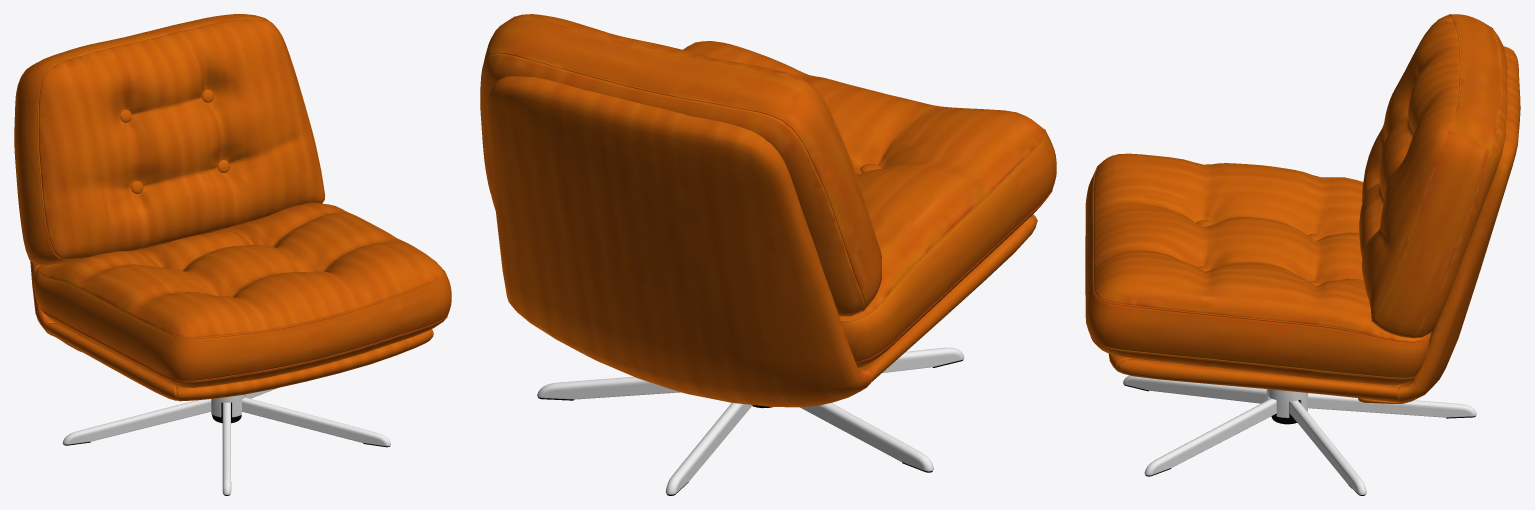
The model's file is dyvlinge_swivel_chair_kelinge_orange.glb.
The picture shows the model from 3 angles, left to right: view 1: azimuth 30°, elevation 25°; view 2: azimuth 150°, elevation 25°; view 3: azimuth 270°, elevation 25°; orthographic projection. The views are drawn at different scales.
Parts seen in each view (by area): view 1: 80581919_swivel_armchair:1, 80581919_swivel_armchair:2; view 2: 80581919_swivel_armchair:1, 80581919_swivel_armchair:2; view 3: 80581919_swivel_armchair:1, 80581919_swivel_armchair:2.
Part boxes in pixels (box(x1,y1,x2,y2)): 80581919_swivel_armchair:1: box(14, 14, 451, 401); 80581919_swivel_armchair:2: box(62, 388, 390, 494); 80581919_swivel_armchair:1: box(480, 14, 1056, 407); 80581919_swivel_armchair:2: box(537, 347, 964, 494); 80581919_swivel_armchair:1: box(1085, 14, 1520, 403); 80581919_swivel_armchair:2: box(1123, 375, 1476, 494).
Size of the model in its own units: 0.63 by 0.68 by 0.75.
3 materials, 1 textured.
